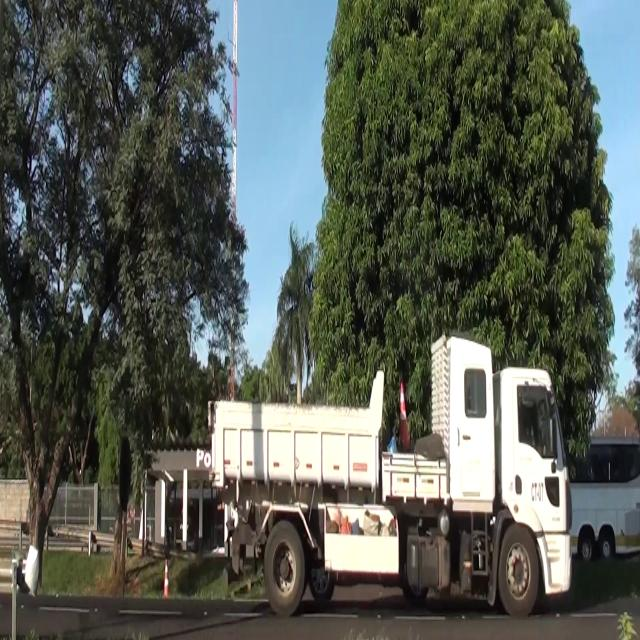-axle: (501, 523, 539, 617), (267, 520, 307, 609)
